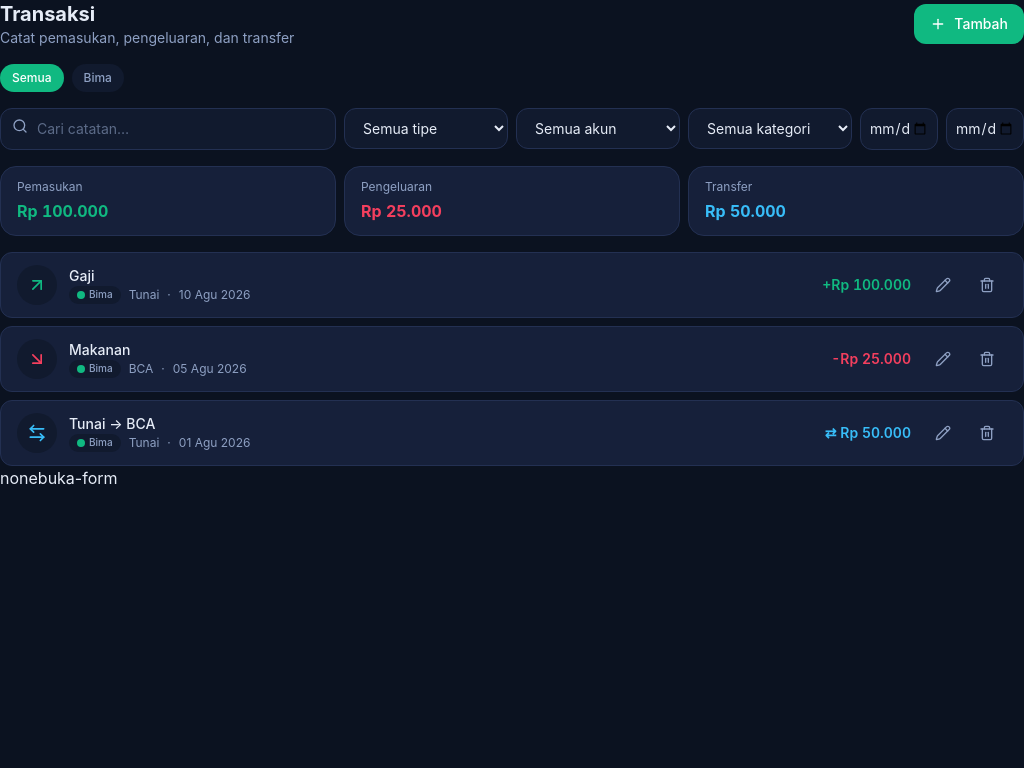
TransactionsPage › opens a pre-filled form when editing a transaction
Expected: the text "+Rp 100.000" is shown, [822, 275, 911, 295]
Click the button named "Ubah" in the row of "10 Agu 2026".
click(943, 285)  # box [923, 271, 963, 299]
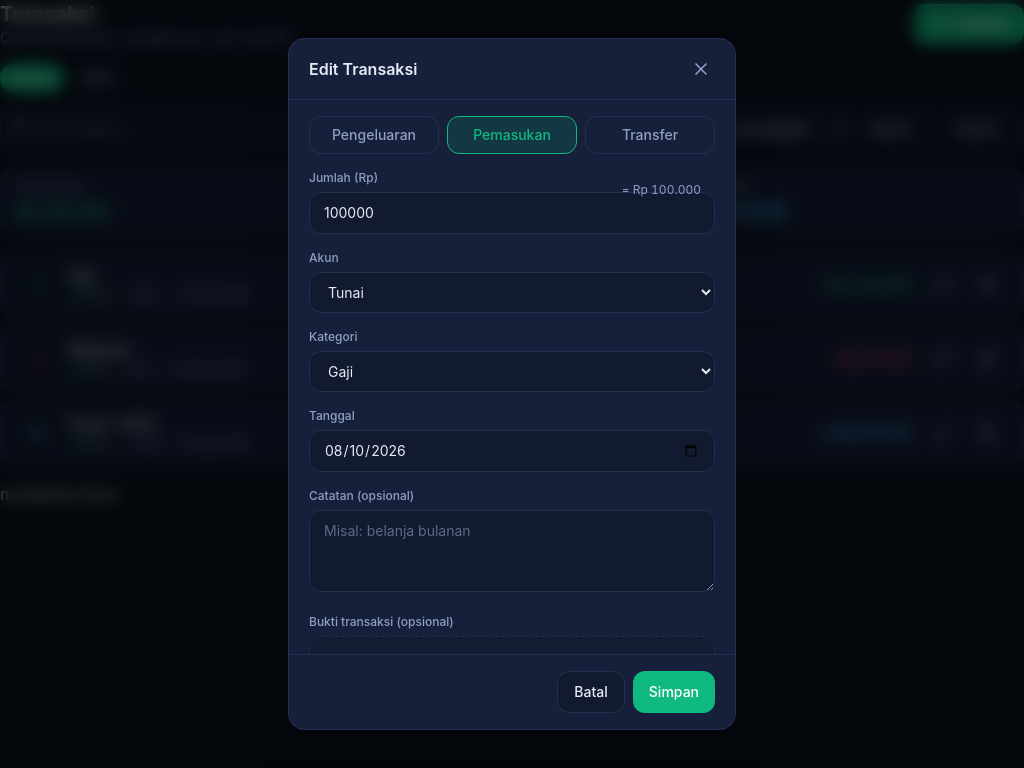
Result: the heading "Edit Transaksi" is shown at [309, 57, 417, 81]
Result: the field labelled "Jumlah (Rp)" holds "100000" at [309, 192, 715, 234]
Result: the dropdown labelled "Akun" shows "Tunai" at [309, 272, 715, 313]
